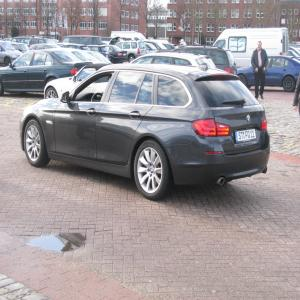Vehicle-registration-plate: (236, 129, 258, 144)
